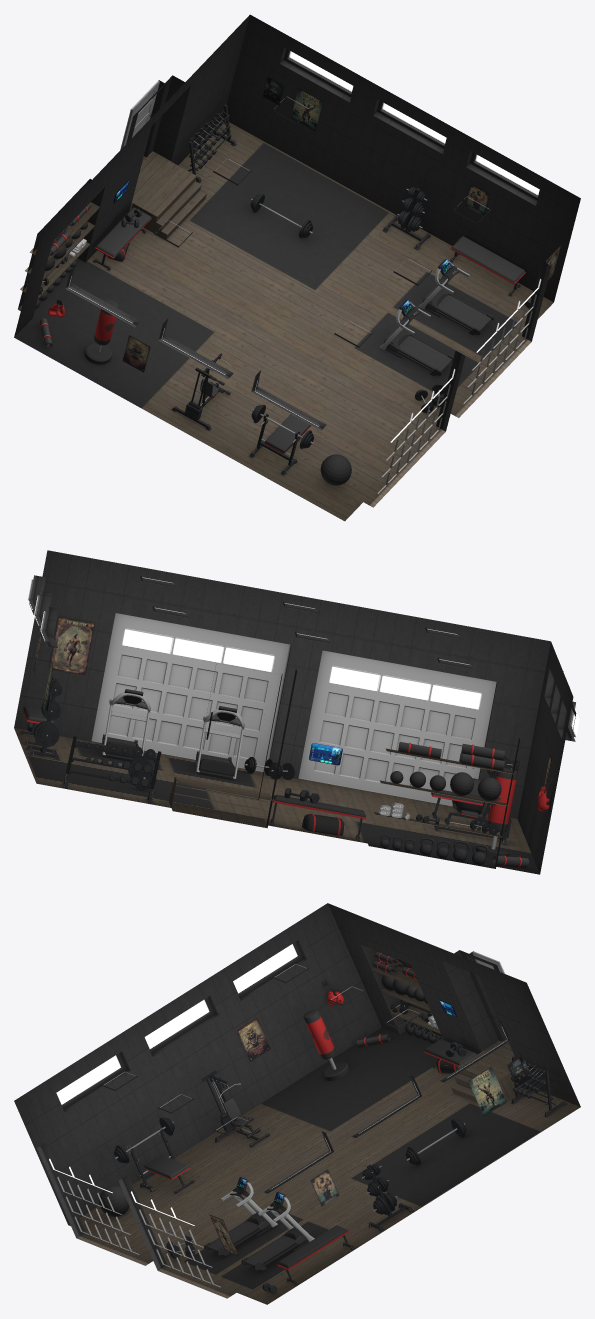
File: Gym.gltf
3 renders of one model, top to bottom at view 1: azimuth 30°, elevation 25°; view 2: azimuth 150°, elevation 25°; view 3: azimuth 270°, elevation 25°, orthographic. The views are drawn at different scales.
Parts seen in each view (by area): view 1: Cube.001, Cube.017, Cube.021, garage_door, Cube.002, Cube.022, Cube.006, Cube.005, Cube.009, Cube.020, Cube.007, Cube.011 (+7 smaller); view 2: Cube.001, garage_door, Plane.010, Cube.022, Cube.002, Cube.007, Cylinder.005, Cube.009, Cube.017, Cube.008, Cube.023, Cube.020 (+12 smaller); view 3: Cube.001, Cube.021, garage_door, Cube.002, Cube.017, Cube.022, Cube.011, Cylinder.005, Cube.007, Cube.005, Plane.005, Cube.006 (+9 smaller).
Boxes of the visible parts, x1=… form: Cube.001: x1=14, y1=14, x2=580, y2=521; Cube.017: x1=131, y1=151, x2=206, y2=239; Cube.021: x1=68, y1=49, x2=539, y2=426; garage_door: x1=377, y1=278, x2=541, y2=493; Cube.002: x1=418, y1=259, x2=494, y2=335; Cube.022: x1=379, y1=300, x2=453, y2=375; Cube.006: x1=449, y1=236, x2=525, y2=296; Cube.005: x1=249, y1=413, x2=311, y2=475; Cube.009: x1=20, y1=202, x2=99, y2=299; Cube.020: x1=93, y1=207, x2=151, y2=270; Cube.007: x1=382, y1=187, x2=430, y2=249; Cube.011: x1=171, y1=353, x2=230, y2=430; Cube.001: x1=14, y1=550, x2=575, y2=874; garage_door: x1=91, y1=613, x2=496, y2=806; Plane.010: x1=49, y1=616, x2=94, y2=674; Cube.022: x1=195, y1=706, x2=244, y2=778; Cube.002: x1=101, y1=689, x2=150, y2=759; Cube.007: x1=25, y1=679, x2=62, y2=760; Cylinder.005: x1=475, y1=768, x2=517, y2=857; Cube.009: x1=374, y1=748, x2=513, y2=837; Cube.017: x1=169, y1=776, x2=272, y2=810; Cube.008: x1=62, y1=736, x2=161, y2=804; Cube.023: x1=140, y1=575, x2=472, y2=669; Cube.020: x1=269, y1=794, x2=366, y2=841; Cube.001: x1=14, y1=903, x2=580, y2=1304; Cube.021: x1=56, y1=942, x2=507, y2=1189; garage_door: x1=49, y1=1158, x2=220, y2=1287; Cube.002: x1=241, y1=1192, x2=314, y2=1270; Cube.017: x1=451, y1=1041, x2=522, y2=1103; Cube.022: x1=204, y1=1177, x2=277, y2=1255; Cube.011: x1=201, y1=1070, x2=269, y2=1147; Cylinder.005: x1=303, y1=1009, x2=349, y2=1080; Cube.007: x1=361, y1=1164, x2=414, y2=1231; Cube.005: x1=126, y1=1126, x2=194, y2=1193; Plane.005: x1=468, y1=1066, x2=506, y2=1116; Cube.006: x1=277, y1=1225, x2=354, y2=1284.
Size of the model in its own units: 14.25 by 8.66 by 14.44.
